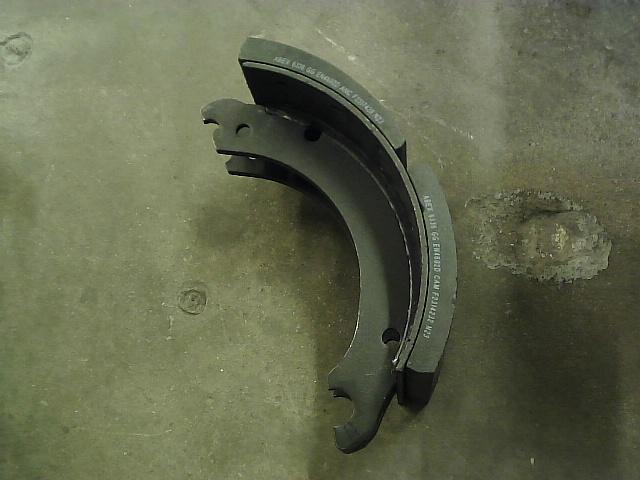brake-shoes: (201, 35, 459, 455)
